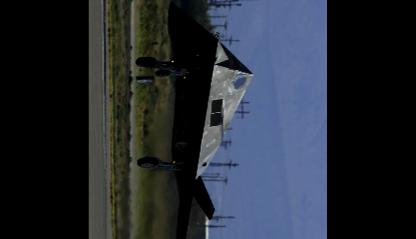E7: (136, 0, 255, 238)
